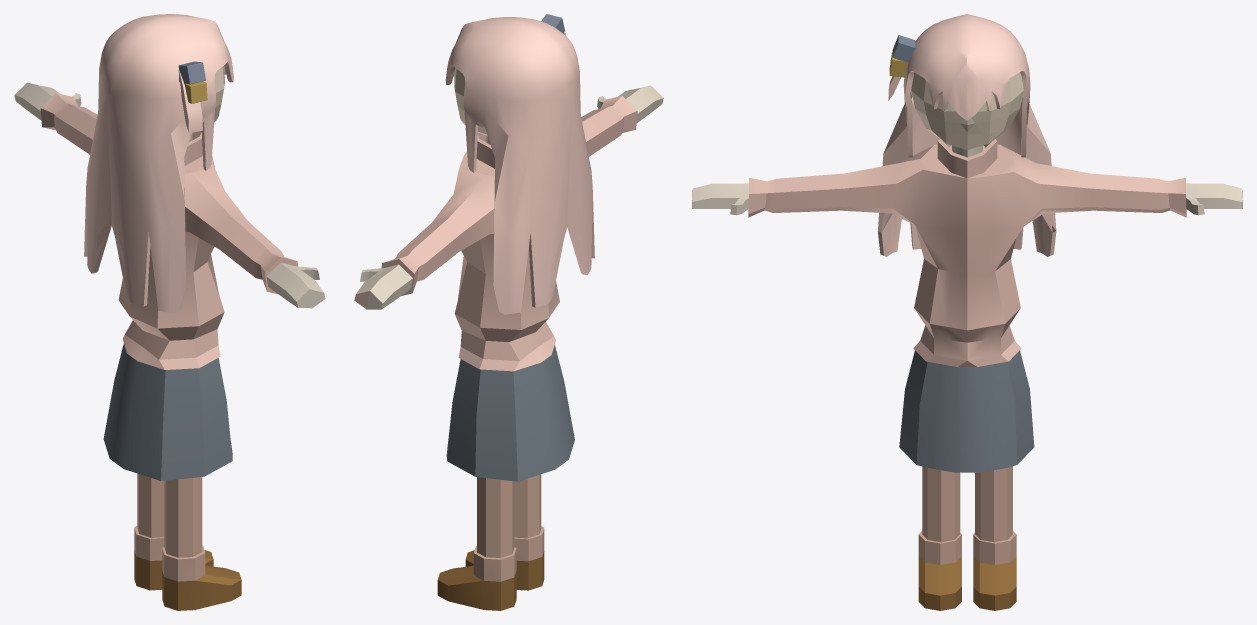
Rendered from bochi.fbx.
The picture shows the model from 3 angles, left to right: view 1: azimuth 30°, elevation 25°; view 2: azimuth 150°, elevation 25°; view 3: azimuth 270°, elevation 25°; orthographic projection. The views are drawn at different scales.
Visible parts, largest first — view 1: Cylinder.011, Cube.005, Cylinder.012, Cube.006, Cube.007; view 2: Cylinder.011, Cube.005, Cylinder.012, Cube.004; view 3: Cylinder.011, Cube.005, Cylinder.012, Cube.004.
Part boxes in pixels (x1,y1,x2,y2): Cylinder.011: (14,82,325,480); Cube.005: (84,14,233,313); Cylinder.012: (134,473,241,610); Cube.006: (178,61,205,84); Cube.007: (184,81,207,103); Cylinder.011: (354,85,663,481); Cube.005: (445,17,594,314); Cylinder.012: (437,474,544,610); Cube.004: (454,68,487,136); Cylinder.011: (692,139,1242,472); Cube.005: (877,14,1056,256); Cylinder.012: (918,466,1016,610); Cube.004: (911,72,1023,149).
Bounding box in the file's own units: 118 × 543 × 484.
